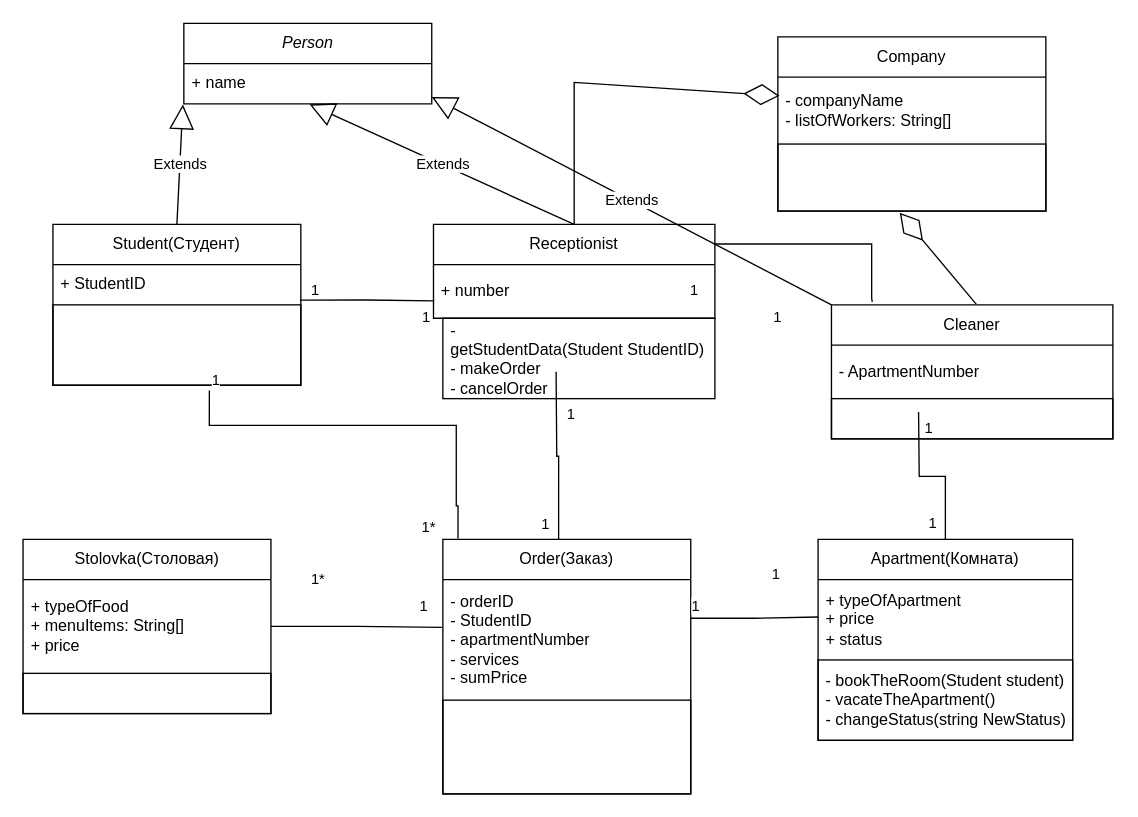
This 1138x817 diagram has some shape labels left out. The centre of each missing label's shape, as x and y in pixels:
"+ bookApartment(Receptionist number) + cancelReservation" goes at point (176, 344).
"- addService(String serviceType) - calculateTotal()" goes at point (566, 746).
"- changeMenu" goes at point (146, 693).
"- cleanApartment(ApartmentNumber)" goes at point (971, 418).
"- hireWorker(Person worker) - dismissWorker(Person worker)" goes at point (911, 177).
